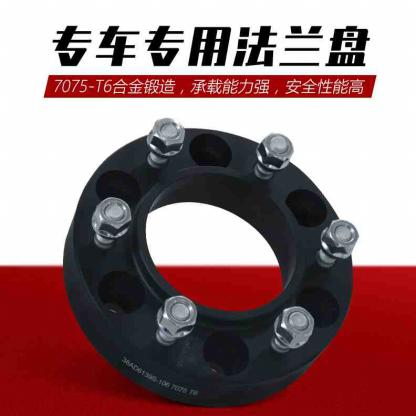FOD: (59, 126, 354, 409), (154, 296, 200, 352), (87, 198, 134, 250), (311, 221, 360, 269), (267, 307, 316, 354), (253, 128, 294, 177), (146, 116, 185, 165)
